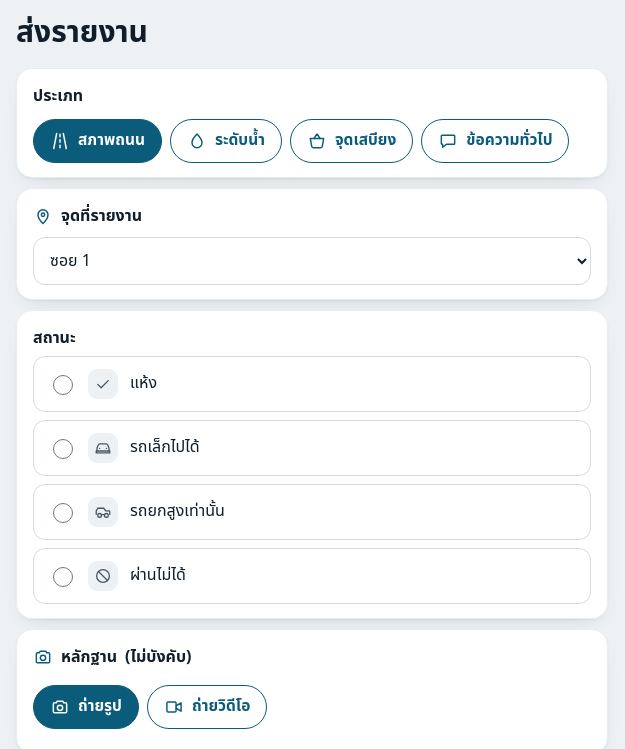
Scenario: marks evidence as required for passable claims and optional for ผ่านไม่ได้
Click the radio button labelled "รถเล็กไปได้" at (63, 449), box [53,439,73,459]
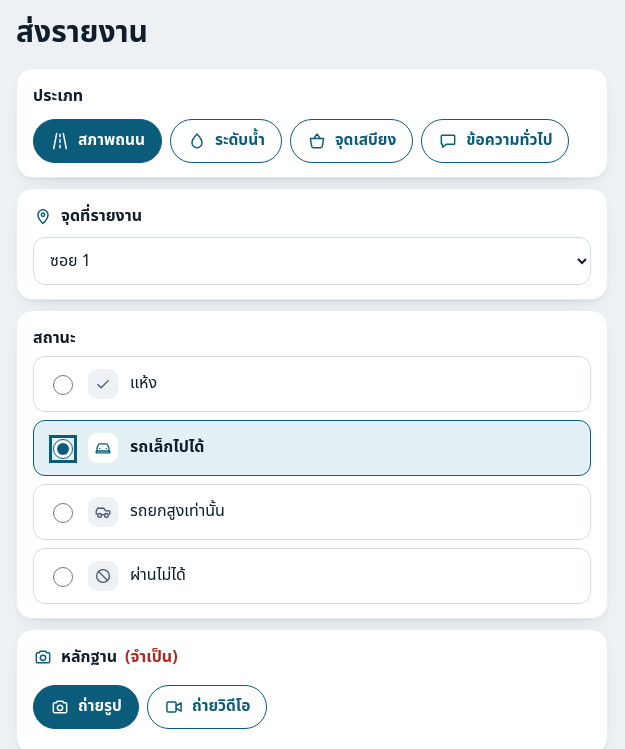
Result: the text "(จำเป็น)" is shown at [125,644,178,670]
Click the radio button labelled "ผ่านไม่ได้" at (63, 577), box [53,567,73,587]
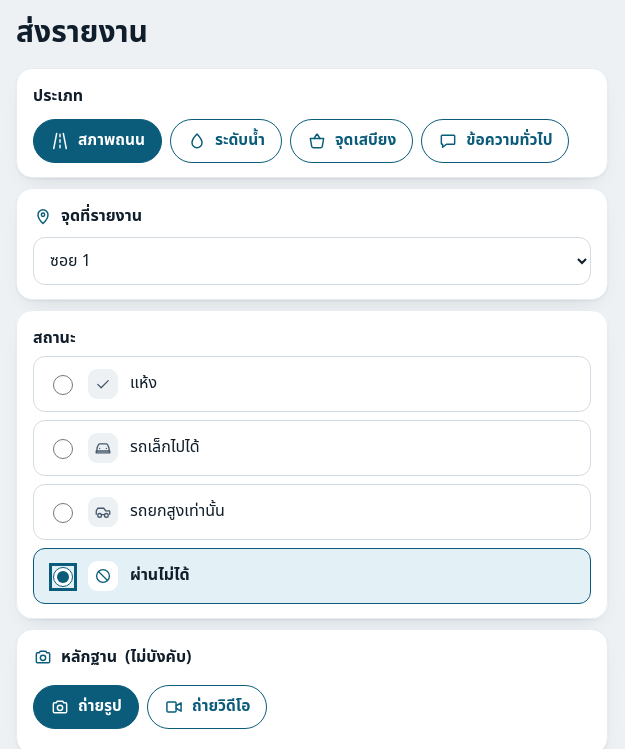
Result: the text "(ไม่บังคับ)" is shown at [125,644,192,670]
